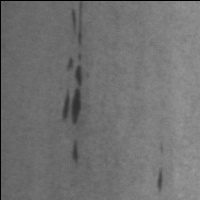inclusion: (65, 2, 85, 86), (60, 84, 86, 129), (154, 164, 168, 196), (70, 140, 81, 167)
